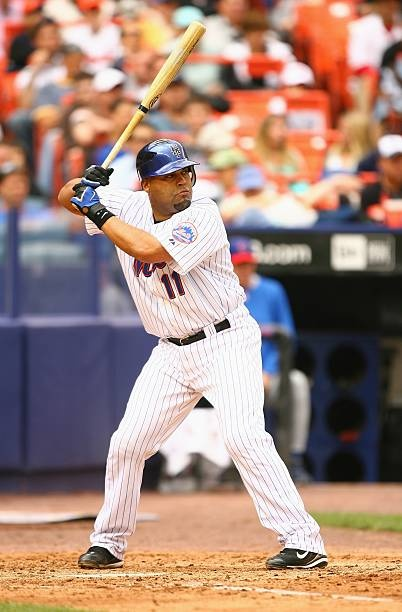bita: (74, 26, 201, 207)
